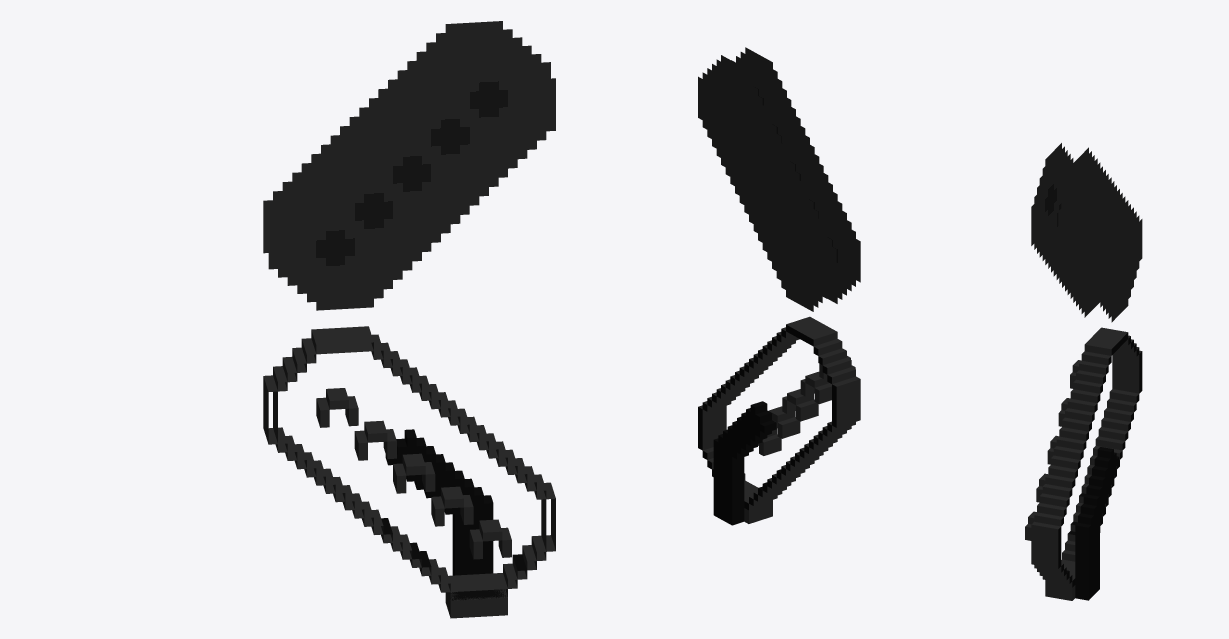
File: indicator_1_22_5.obj
The picture shows the model from 3 angles, left to right: view 1: azimuth 30°, elevation 25°; view 2: azimuth 150°, elevation 25°; view 3: azimuth 270°, elevation 25°; orthographic projection. The views are drawn at different scales.
Bounding box in the file's own units: 1.9 × 2.06 × 0.8809.
